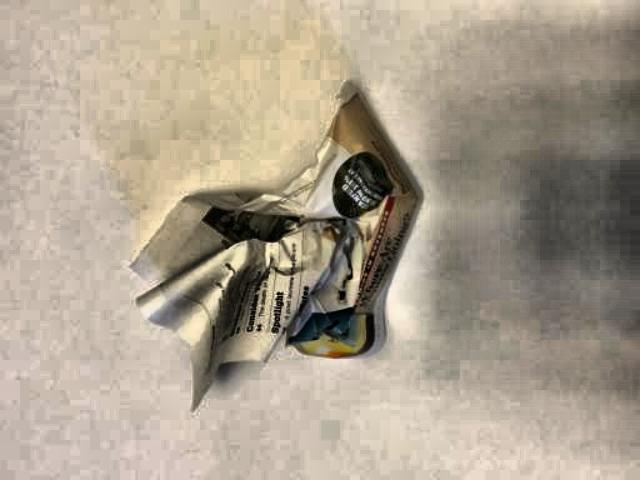Paper: (127, 61, 420, 412)
